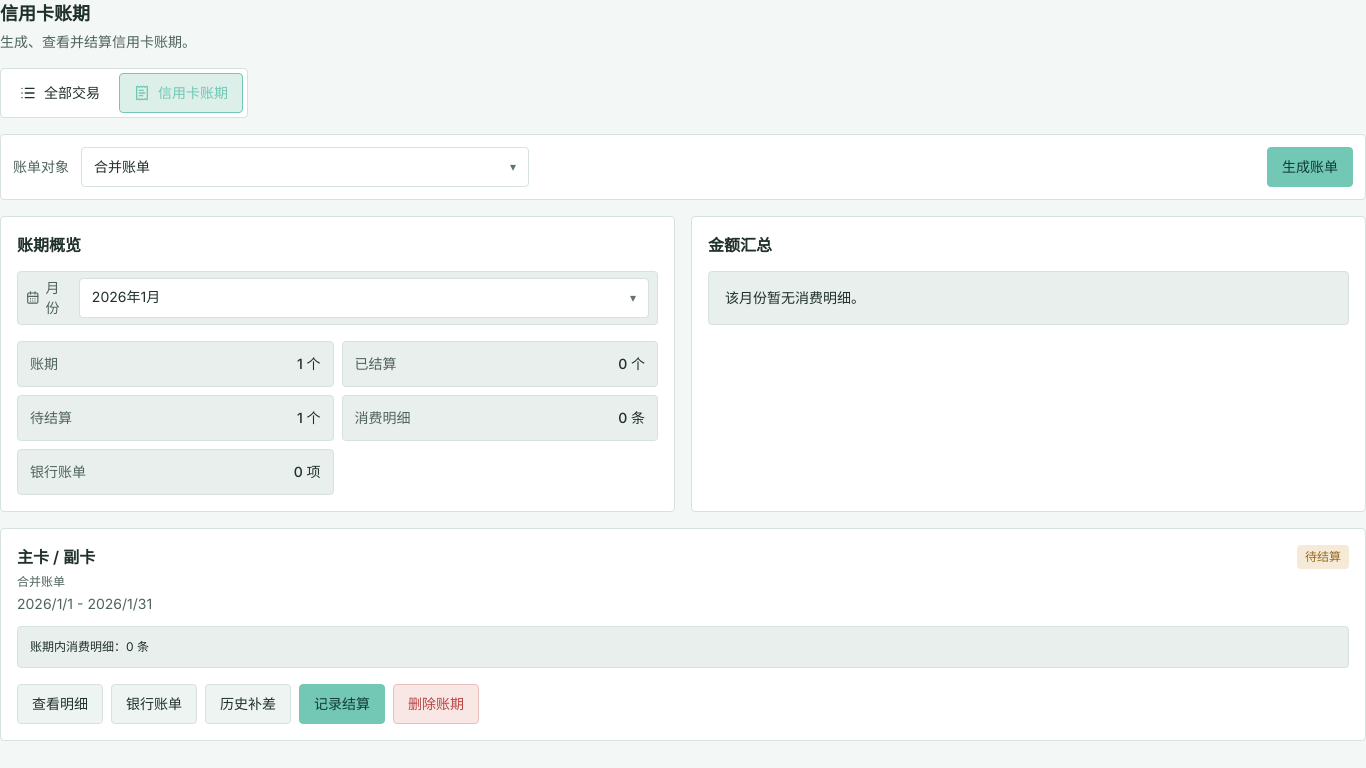
Test: CreditStatementsView › limits statement adjustment currencies to the selected card
Click the button "历史补差": (248, 704) [205,684,291,724]
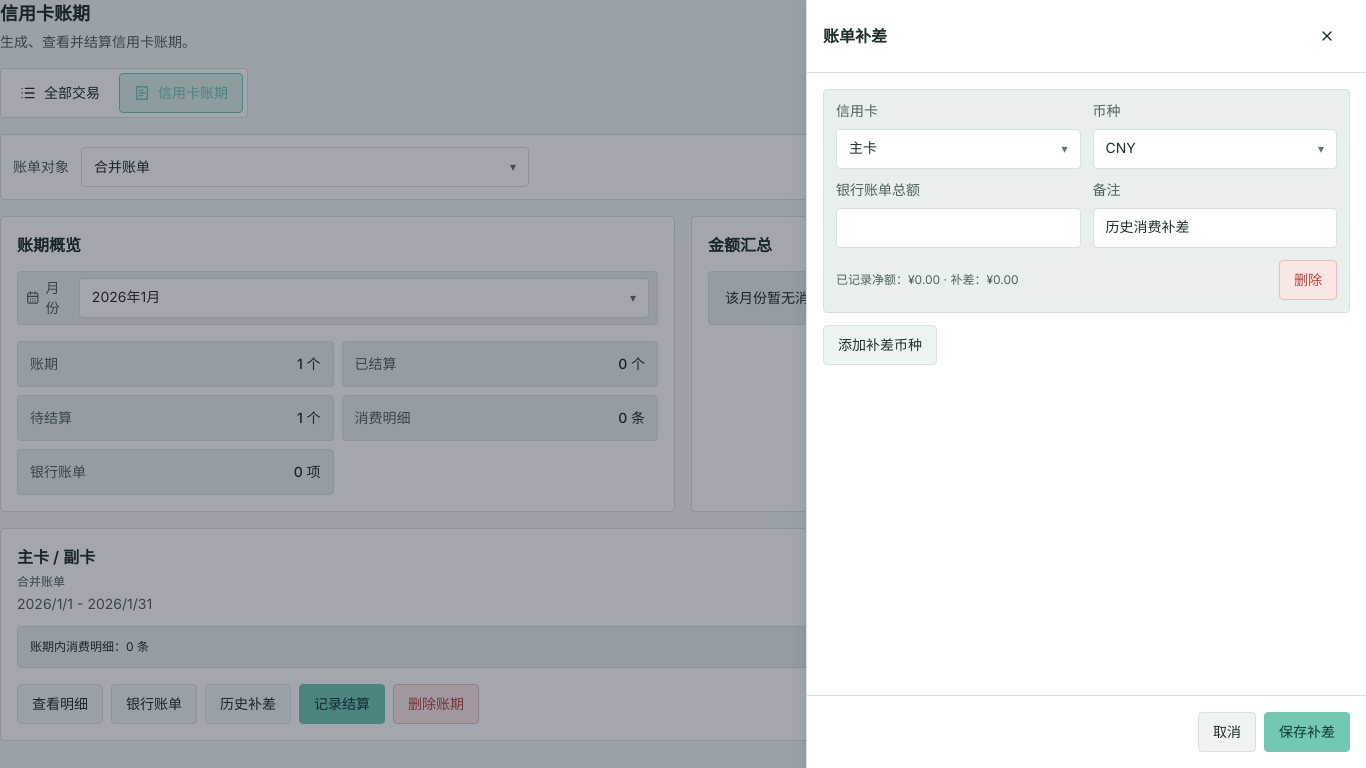
Click the button named "信用卡": (958, 149) [836,129,1080,169]
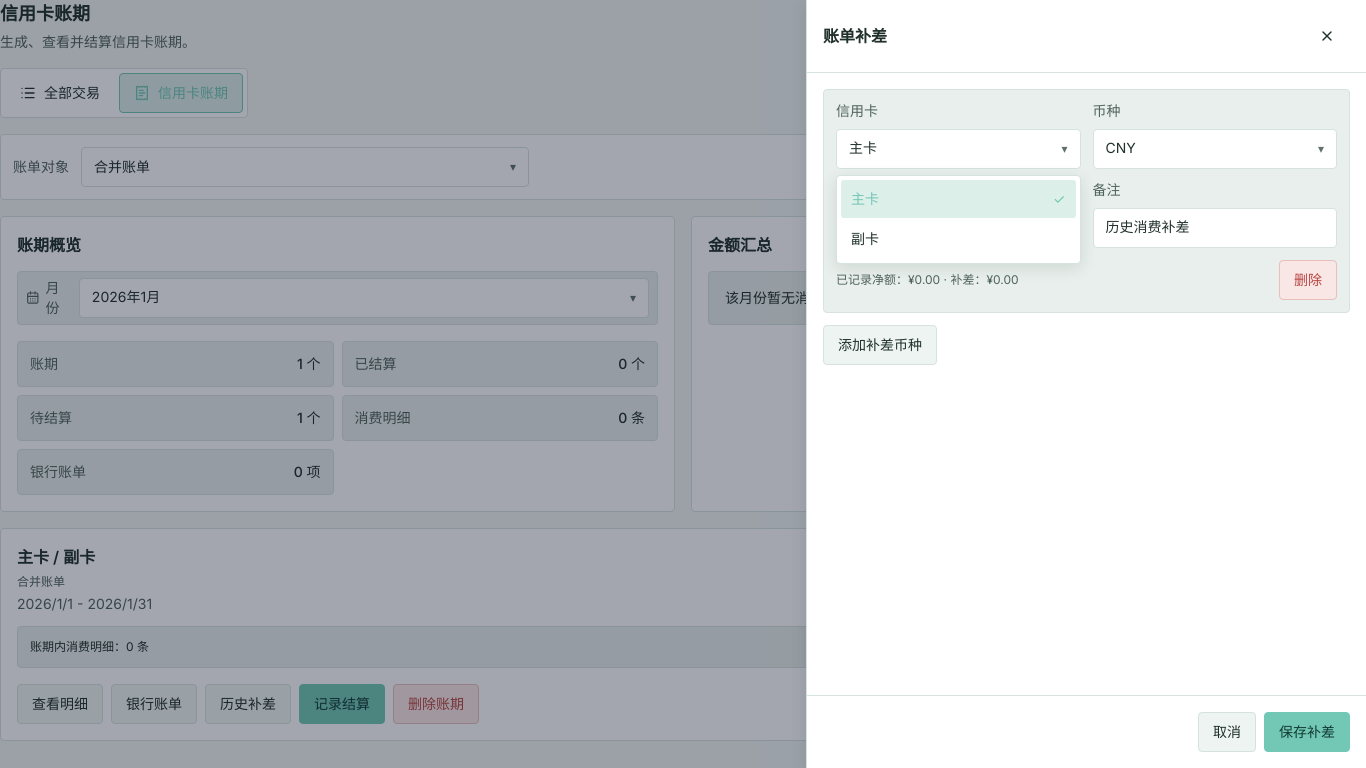
Click the option "副卡": (958, 240) [841,220,1076,259]
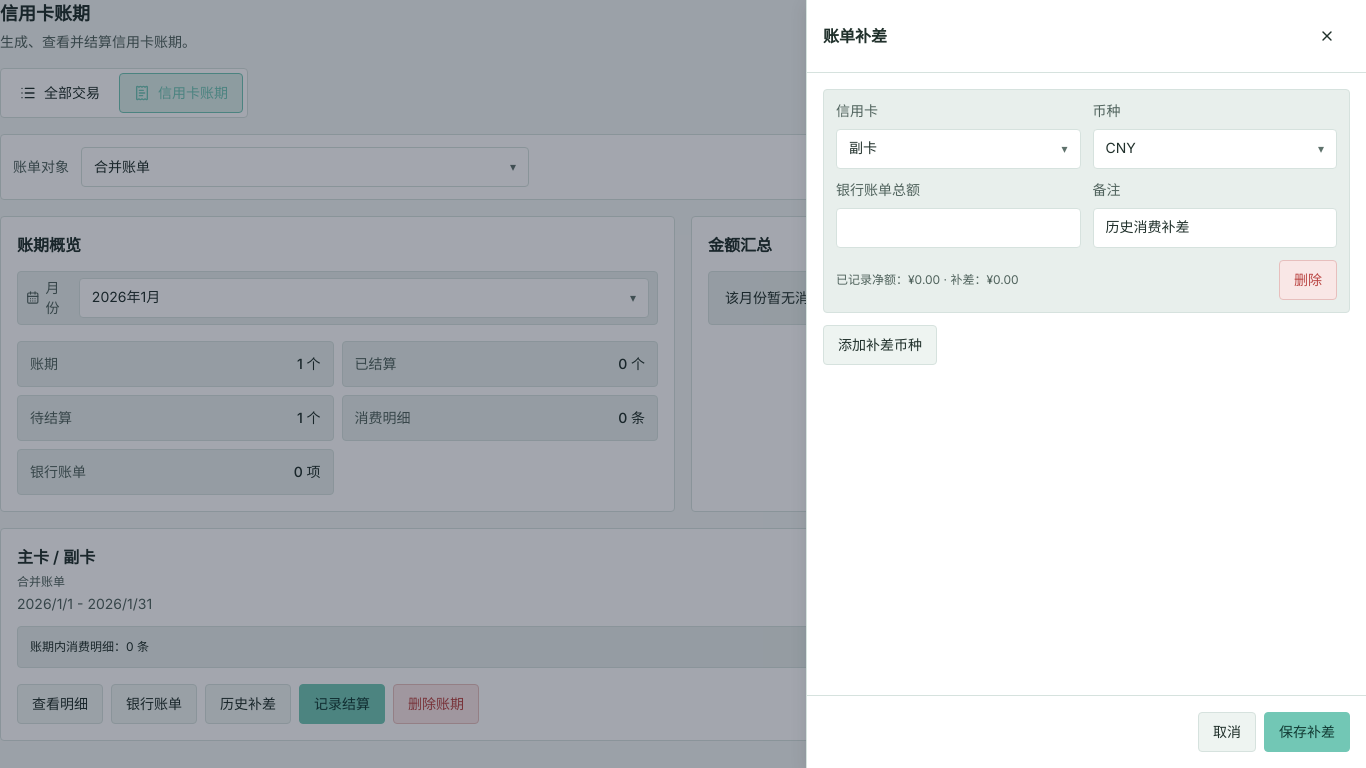
Click the button named "币种": (1215, 149) [1092,129,1337,169]
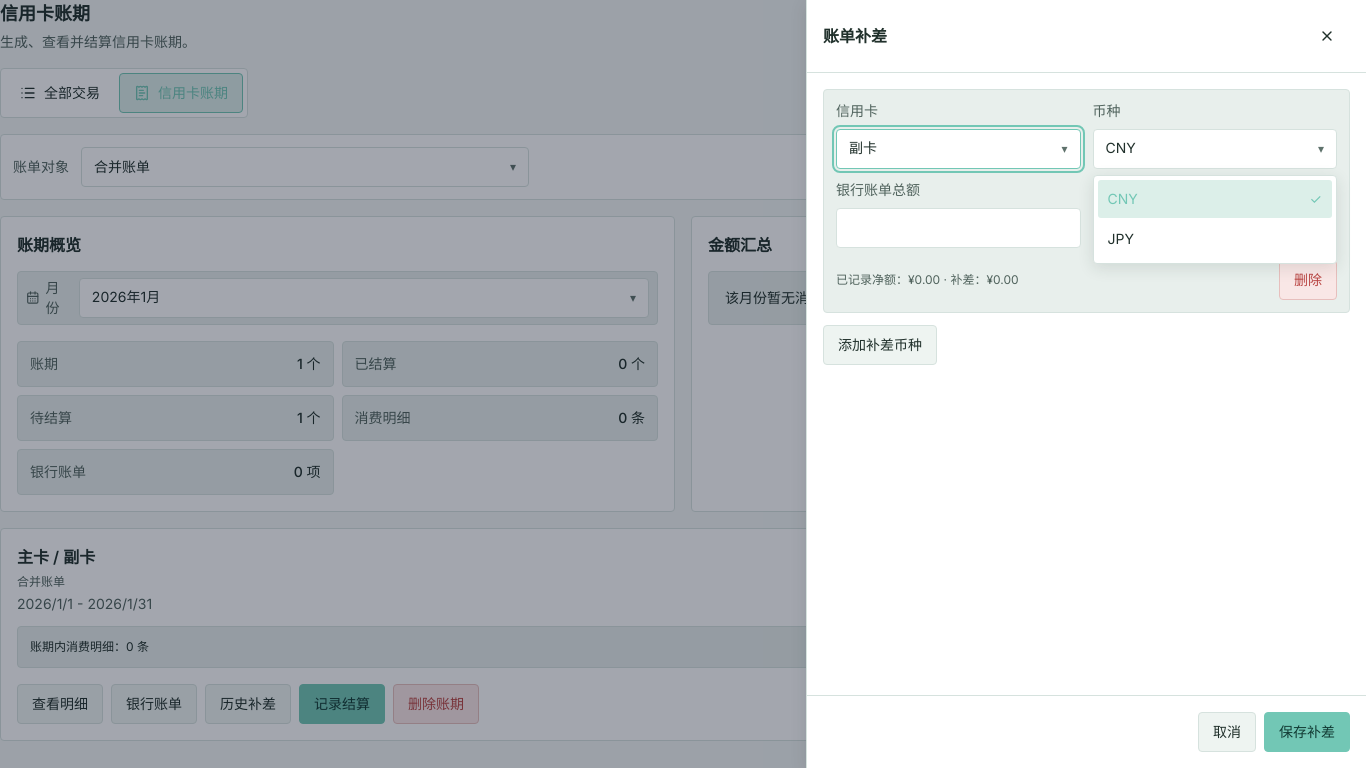
Expected: the option "JPY" is shown, [1098,220,1332,259]
